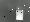person: (17, 8, 24, 20)
